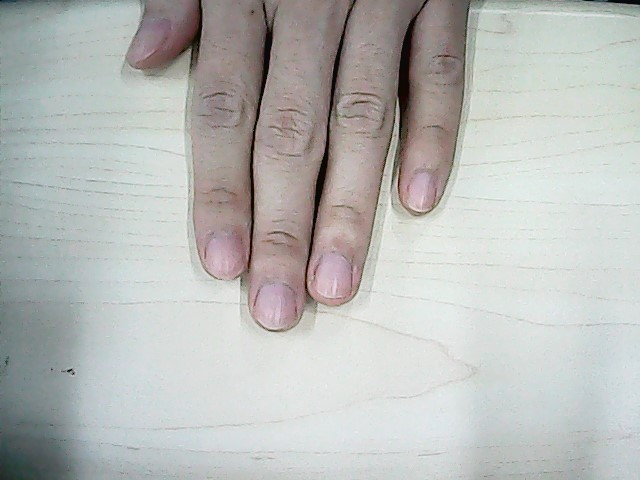nail: (253, 281, 299, 331), (128, 17, 172, 68), (205, 225, 244, 280), (312, 253, 355, 302), (407, 168, 437, 213)
